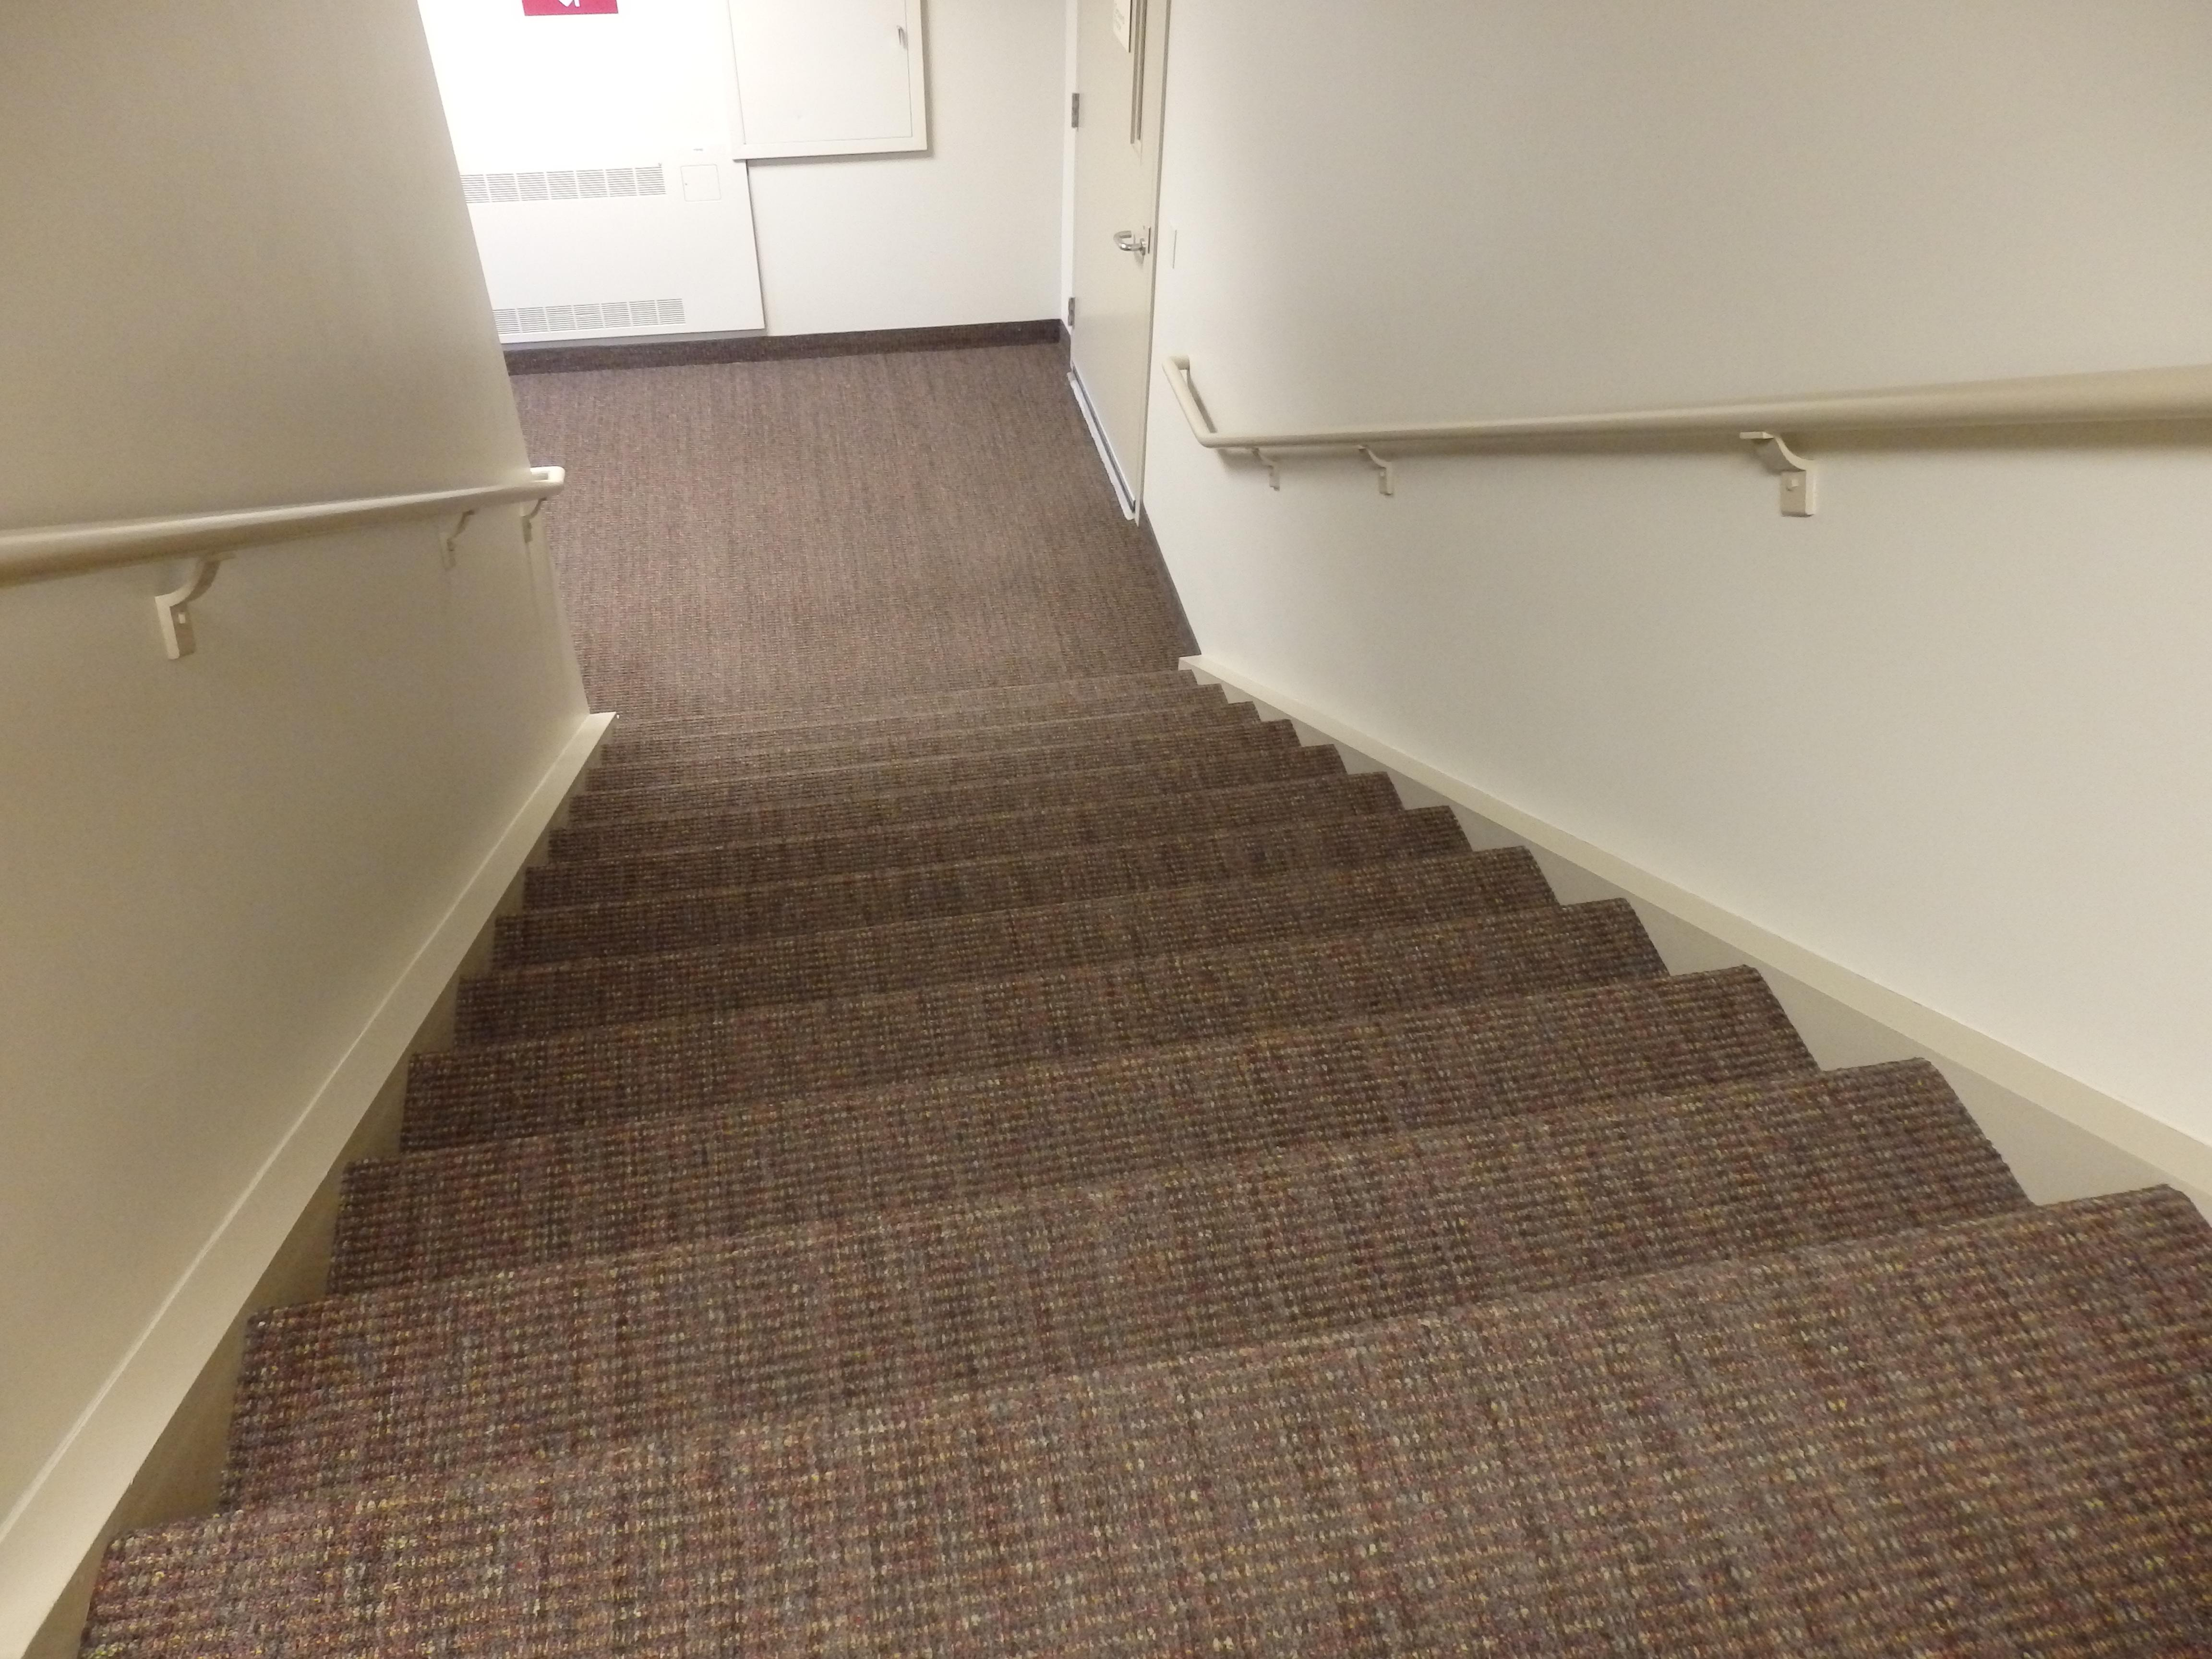stairs_down: (195, 603, 2161, 1588)
